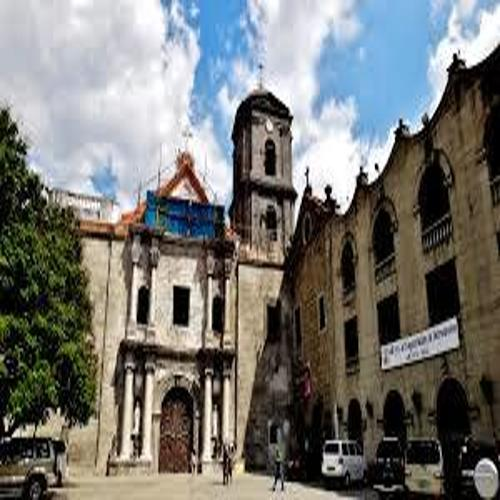San Agustin Church: (105, 48, 302, 477)
